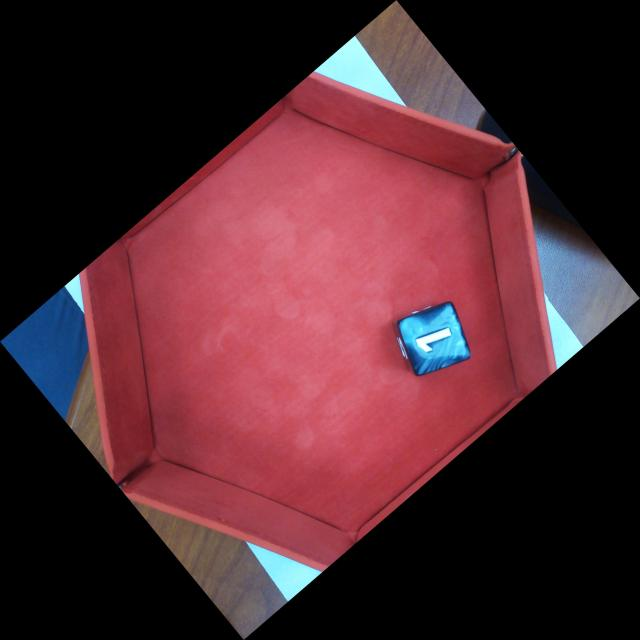dice: (409, 308, 469, 374)
